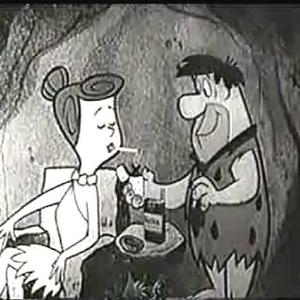cigarette: (106, 143, 143, 156)
